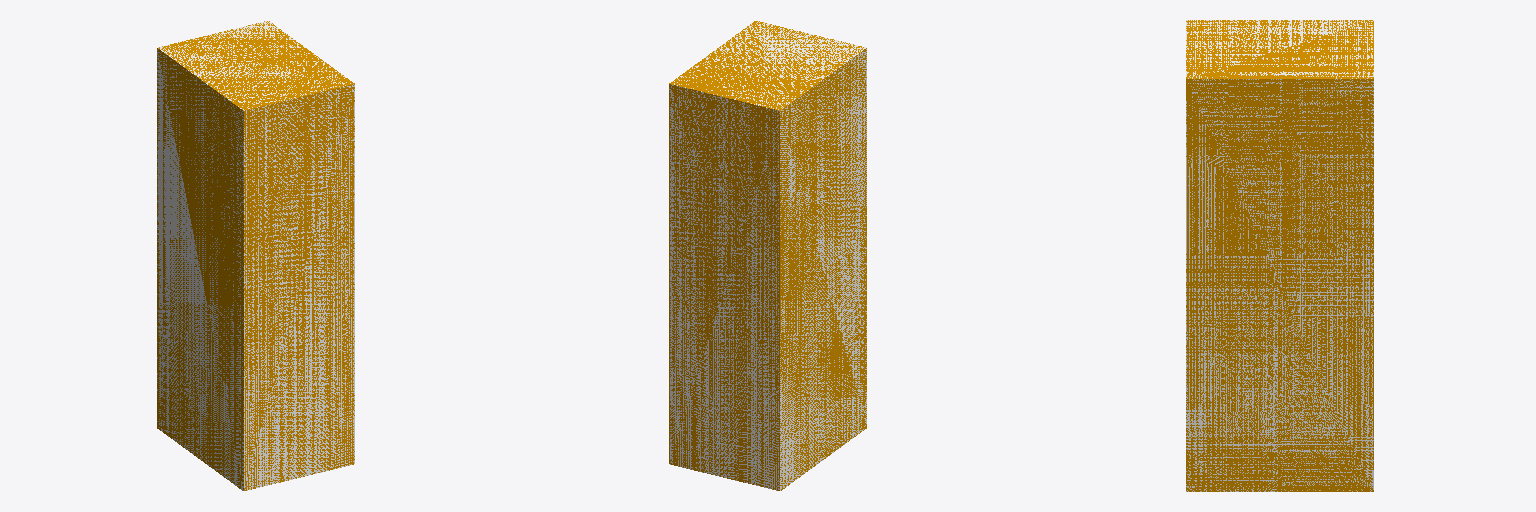
robot.urdf — my_object:
<?xml version="1.0" ?>
<robot name="my_object" static="true">
  <link name="base_link">
  <inertial>
    <mass value="1.550" />
    <origin xyz="0 0 0.0" />
    <inertia ixx="1.0" ixy="0.0" ixz="0.0" iyy="1.0" iyz="0.0" izz="1.0"/>
  </inertial>
  <visual>
   <origin xyz="0 0 0.0" rpy="0 0 0" />
   <geometry>
     <mesh filename="package://cob_gazebo_objects/Media/models/orange_juice_hohesc.dae"/>
   </geometry>
  </visual>
  <collision>
   <origin xyz="0 0.00 0" rpy="0 0 0" />
   <geometry>
     <box size="0.07 0.095 0.23" />
   </geometry>
  </collision>
  </link>

<gazebo>
	<static>true</static>
</gazebo>

<!--gazebo reference="base_link">
  <mu1>50.0</mu1>
  <mu2>50.0</mu2>
  <kp>1000000.0</kp>
  <kd>1.0</kd>
</gazebo-->
</robot>

--- Facts derived from the render (not from the file) ---
3 views of the same robot in one strip: view 1: azimuth 30°, elevation 25°; view 2: azimuth 150°, elevation 25°; view 3: azimuth 270°, elevation 25° (orthographic).
Model my_object with 1 links and 0 joints (none), rooted at base_link, posed all joints at 0.
Links seen in each view (by area): view 1: base_link; view 2: base_link; view 3: base_link.
Link boxes in pixels (x1,y1,x2,y2): base_link: [157, 21, 354, 490]; base_link: [669, 21, 866, 490]; base_link: [1186, 20, 1373, 491].
Size in the robot's own frame: 0.0703 by 0.0945 by 0.2296 metres.
1 mesh visuals loaded from 1 distinct referenced files (1 Collada DAE).
